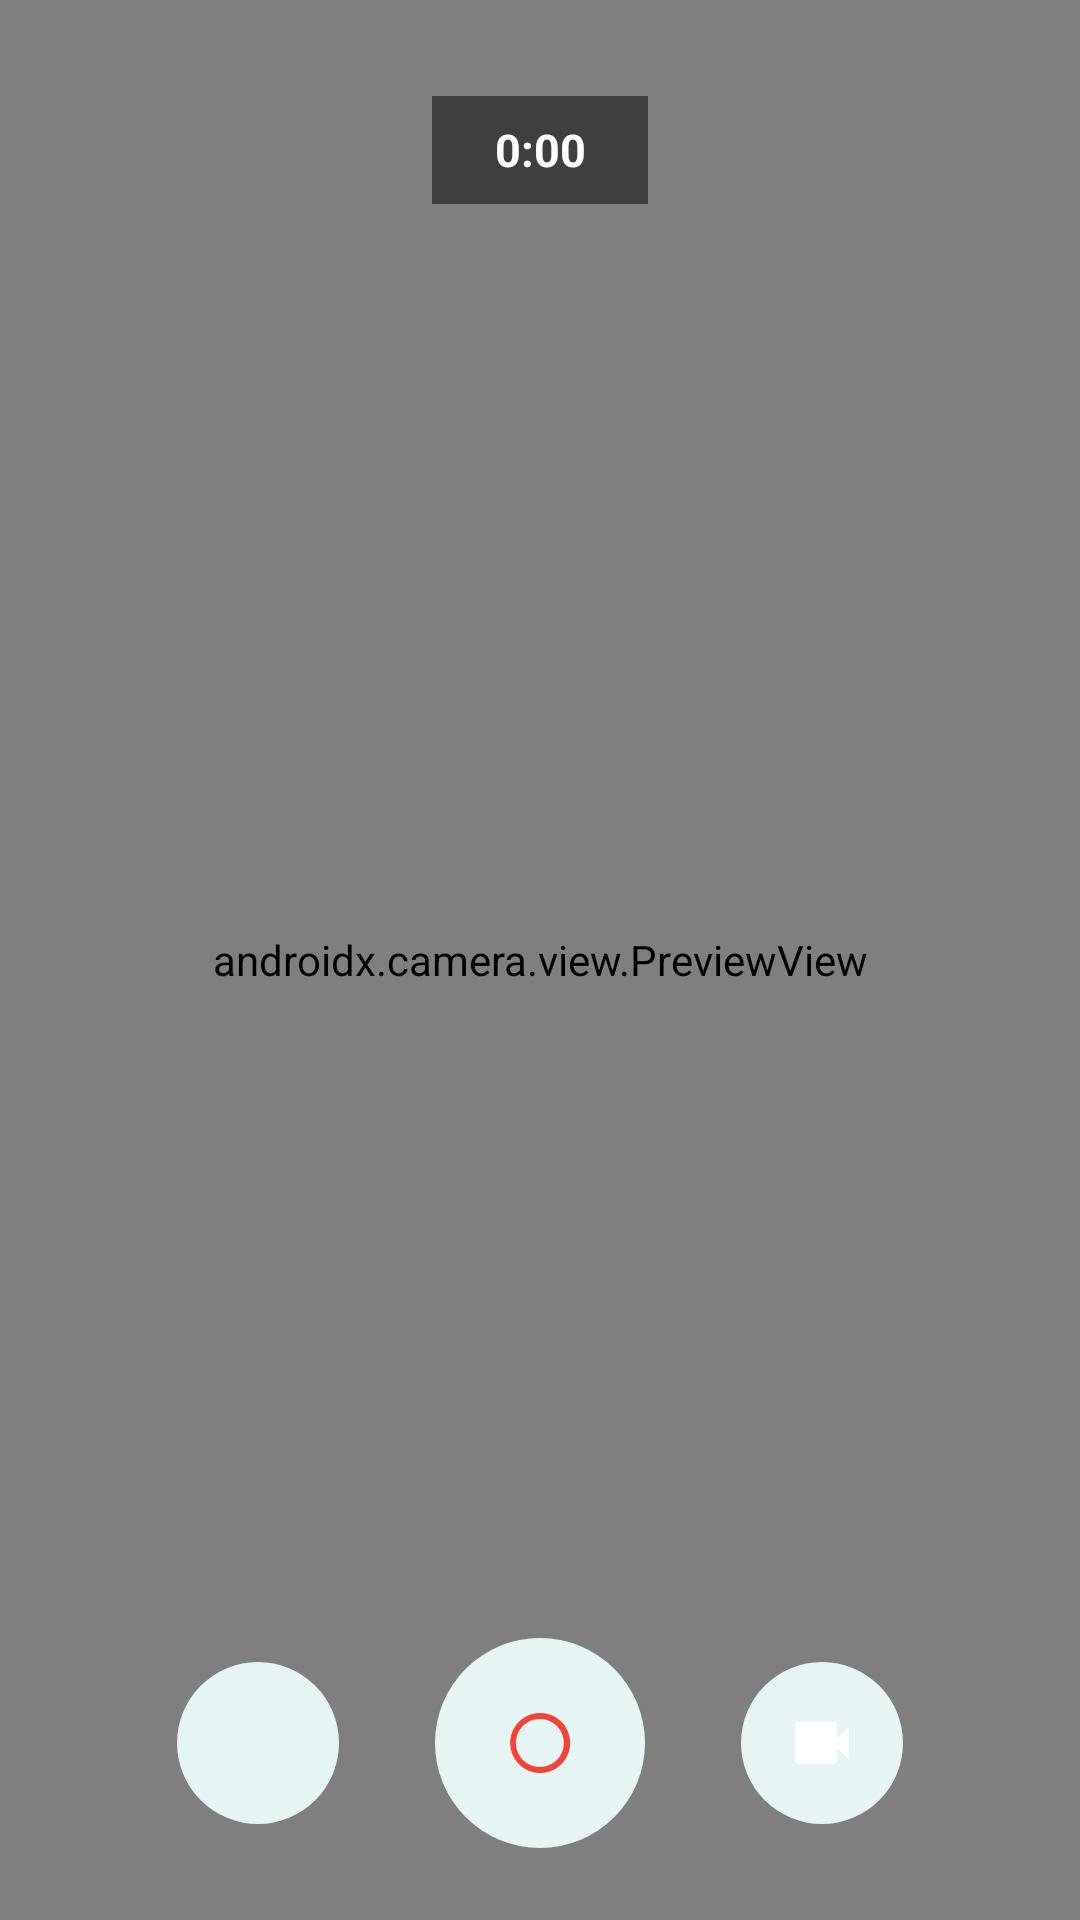

Named icons in this screenshot (1080*1920) and their bounding boxes, Rect(x1, y1, x2, y2):
fiber manual record: Rect(435, 1638, 645, 1848)
